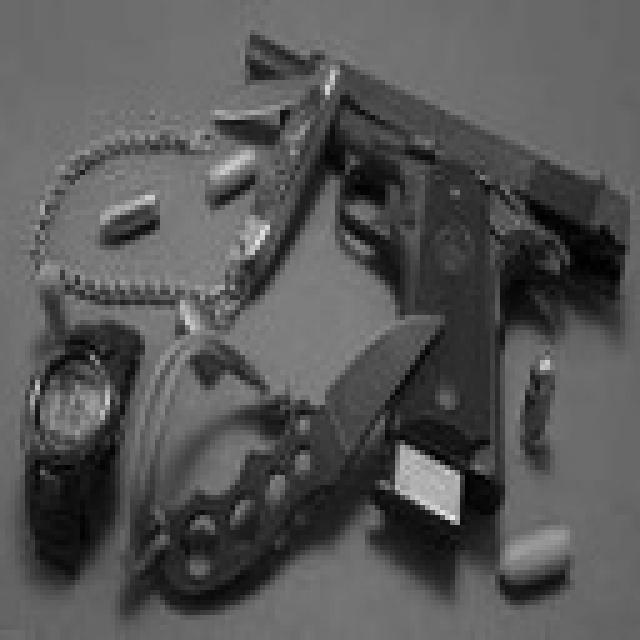Rifle: (206, 18, 640, 524)
